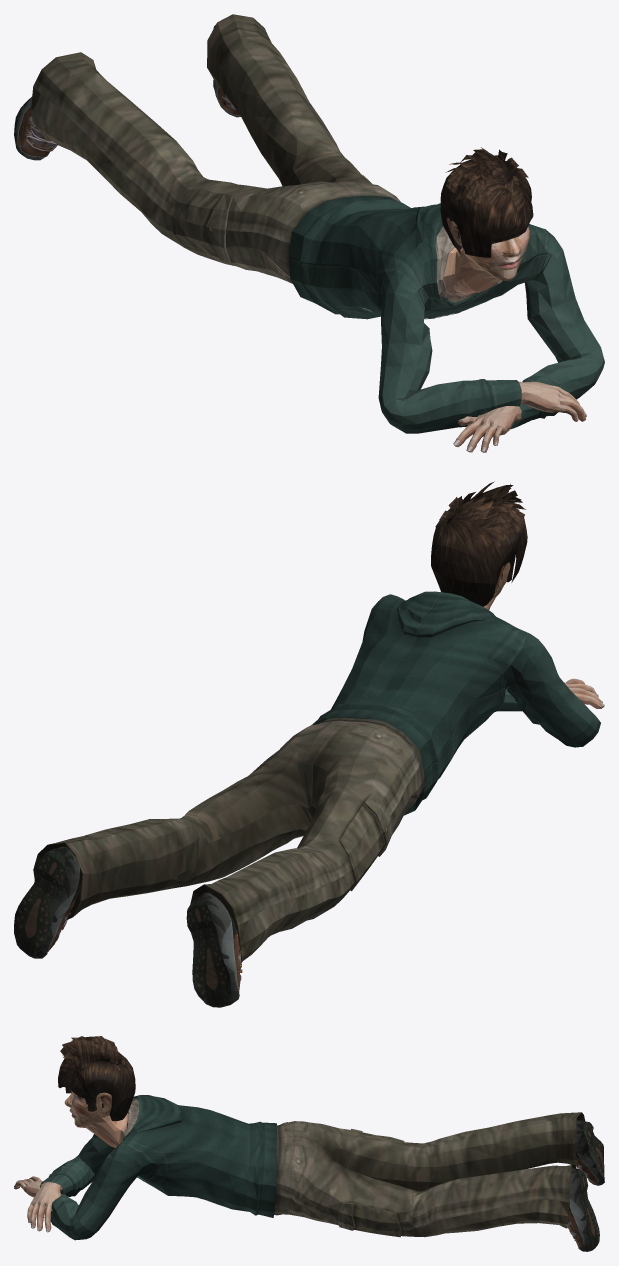
Rendered from sweethome3d-reallusion-lying-down-boy-19.glb.
The picture shows the model from 3 angles, top to bottom: view 1: azimuth 30°, elevation 25°; view 2: azimuth 150°, elevation 25°; view 3: azimuth 270°, elevation 25°; orthographic projection. The views are drawn at different scales.
Visible parts, largest first — view 1: RL_Lower.001, RL_Upper.001, RL_HairMesh.001, RL_Hands.001, RL_Face.001, RL_Shoes.001; view 2: RL_Lower.001, RL_Upper.001, RL_Shoes.001, RL_HairMesh.001; view 3: RL_Lower.001, RL_Upper.001, RL_HairMesh.001, RL_Shoes.001, RL_Hands.001, RL_Face.001.
Part boxes in pixels (bbox=[...]): RL_Lower.001: bbox=[31, 14, 400, 283]; RL_Upper.001: bbox=[289, 196, 604, 433]; RL_HairMesh.001: bbox=[440, 147, 533, 257]; RL_Hands.001: bbox=[453, 381, 586, 452]; RL_Face.001: bbox=[446, 217, 530, 281]; RL_Shoes.001: bbox=[14, 25, 240, 160]; RL_Lower.001: bbox=[33, 717, 424, 962]; RL_Upper.001: bbox=[312, 591, 600, 815]; RL_Shoes.001: bbox=[14, 846, 242, 1007]; RL_HairMesh.001: bbox=[431, 481, 527, 606]; RL_Lower.001: bbox=[274, 1112, 585, 1237]; RL_Upper.001: bbox=[40, 1095, 276, 1240]; RL_HairMesh.001: bbox=[58, 1036, 135, 1120]; RL_Shoes.001: bbox=[565, 1120, 604, 1251]; RL_Hands.001: bbox=[14, 1176, 60, 1232]; RL_Face.001: bbox=[64, 1091, 111, 1133].
Bounding box in the file's own units: 54.46 × 53.76 × 166.
Materials: 11 (11 with a texture image).
